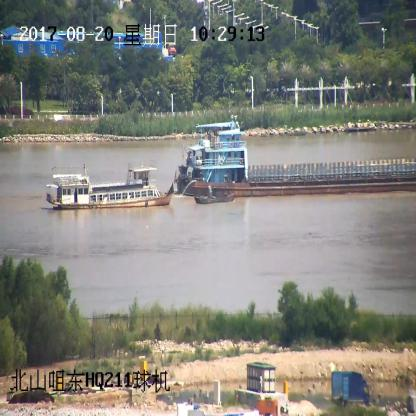Fishing Boat: (43, 164, 175, 210), (195, 184, 237, 203)
